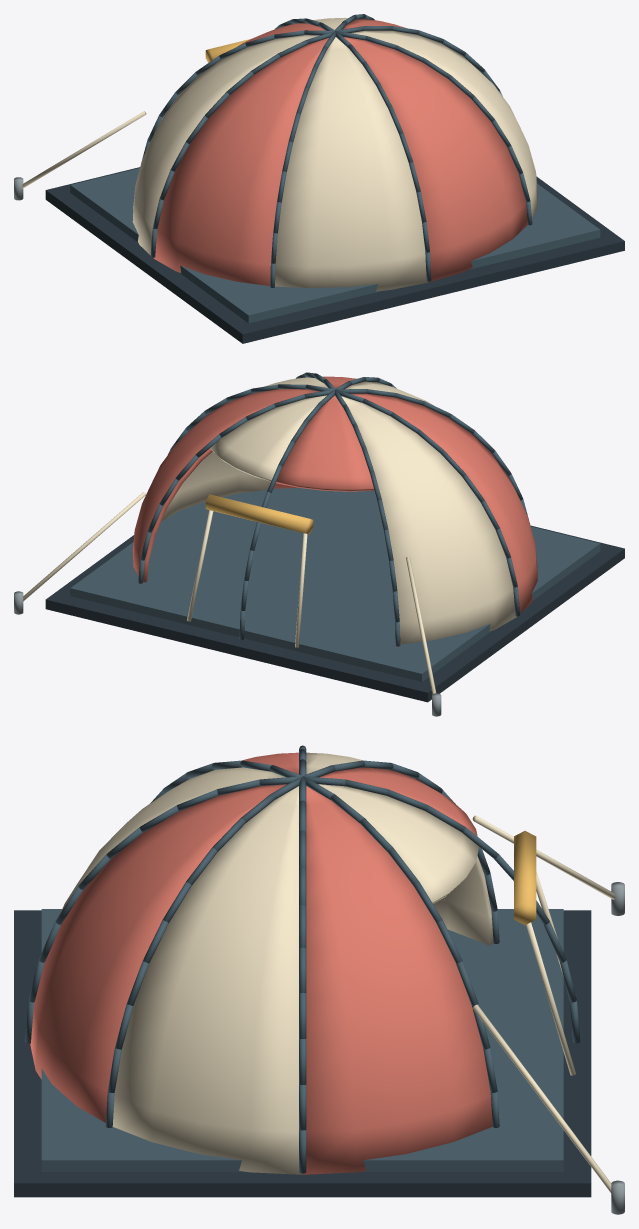
File: AH03_DomeTent.fbx
3 renders of one model, top to bottom at view 1: azimuth 30°, elevation 25°; view 2: azimuth 150°, elevation 25°; view 3: azimuth 270°, elevation 25°, orthographic. The views are drawn at different scales.
Visible parts, largest first — view 1: AH03_DomeTent_AH03_CanvasRose, AH03_DomeTent_AH03_CanvasCream, AH03_DomeTent_AH03_CanvasDark, AH03_DomeTent_AH03_Dark, AH03_DomeTent_AH03_Cream; view 2: AH03_DomeTent_AH03_CanvasDark, AH03_DomeTent_AH03_CanvasCream, AH03_DomeTent_AH03_CanvasRose, AH03_DomeTent_AH03_Dark, AH03_DomeTent_AH03_Cream, AH03_DomeTent_AH03_CanvasGold; view 3: AH03_DomeTent_AH03_CanvasRose, AH03_DomeTent_AH03_CanvasCream, AH03_DomeTent_AH03_CanvasDark, AH03_DomeTent_AH03_Dark, AH03_DomeTent_AH03_Cream, AH03_DomeTent_AH03_CanvasGold, AH03_DomeTent_AH03_Metal.
Boxes of the visible parts, x1,y1,x2,y2 form: AH03_DomeTent_AH03_CanvasRose: [154, 19, 527, 285]; AH03_DomeTent_AH03_CanvasCream: [132, 17, 537, 291]; AH03_DomeTent_AH03_CanvasDark: [70, 14, 600, 323]; AH03_DomeTent_AH03_Dark: [45, 167, 624, 343]; AH03_DomeTent_AH03_Cream: [22, 111, 146, 188]; AH03_DomeTent_AH03_CanvasDark: [70, 372, 600, 681]; AH03_DomeTent_AH03_CanvasCream: [161, 377, 516, 644]; AH03_DomeTent_AH03_CanvasRose: [132, 376, 537, 616]; AH03_DomeTent_AH03_Dark: [45, 525, 624, 702]; AH03_DomeTent_AH03_Cream: [23, 492, 436, 694]; AH03_DomeTent_AH03_CanvasGold: [205, 494, 313, 534]; AH03_DomeTent_AH03_CanvasRose: [30, 752, 492, 1174]; AH03_DomeTent_AH03_CanvasCream: [61, 752, 493, 1174]; AH03_DomeTent_AH03_CanvasDark: [25, 745, 580, 1173]; AH03_DomeTent_AH03_Dark: [14, 910, 591, 1197]; AH03_DomeTent_AH03_Cream: [472, 815, 615, 1193]; AH03_DomeTent_AH03_CanvasGold: [514, 831, 536, 925]; AH03_DomeTent_AH03_Metal: [611, 882, 624, 1214].
Size of the model in its own units: 418 by 183 by 355.
